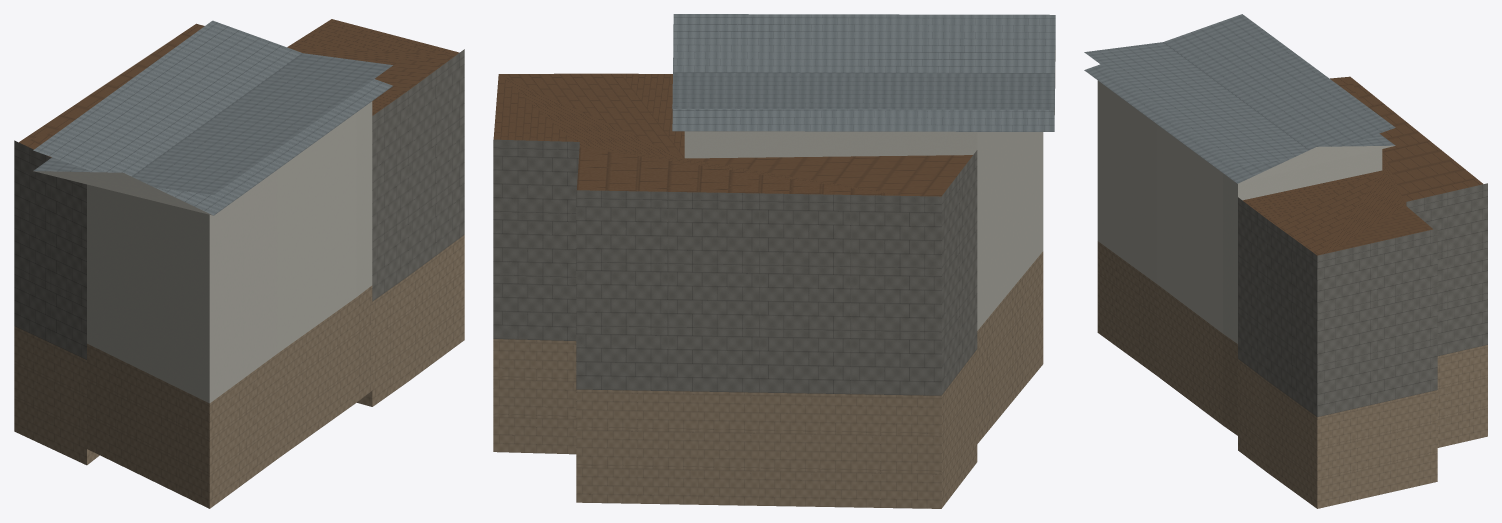
Rendered from bld_c21_44_382.gltf.
The picture shows the model from 3 angles, left to right: view 1: azimuth 30°, elevation 25°; view 2: azimuth 150°, elevation 25°; view 3: azimuth 270°, elevation 25°; orthographic projection. The views are drawn at different scales.
Parts seen in each view (by area): view 1: bld_c21_44_382; view 2: bld_c21_44_382; view 3: bld_c21_44_382.
Part boxes in pixels (<box>): bld_c21_44_382: <box>14,19,464,508</box>; bld_c21_44_382: <box>493,14,1055,508</box>; bld_c21_44_382: <box>1084,14,1487,508</box>.
Bounding box in the file's own units: 24.04 × 16.3 × 20.35.
7 materials, 7 textured.
